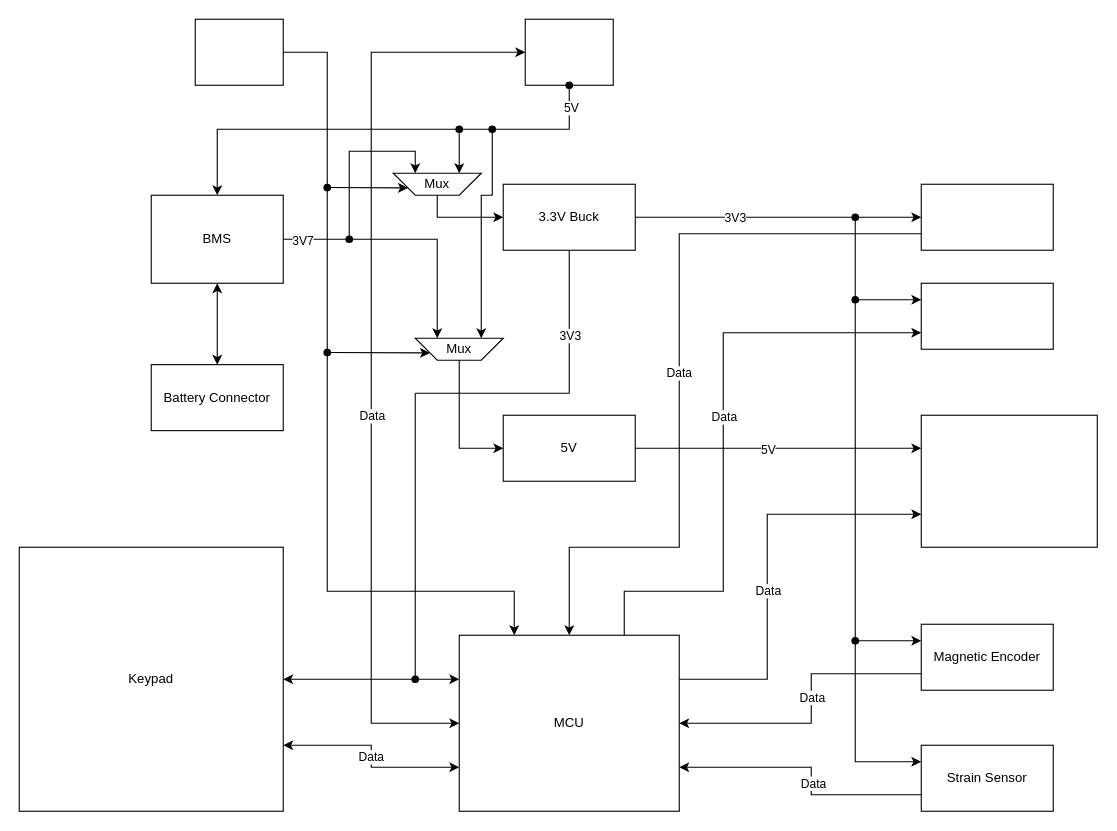
Image size: 1117x831. Some labels were removed from this diagram. The shapes that lost their labels are listed below. From the top down, each one's centre as x and y in pixels, then its label:
[238,51]: 3-pos switch
[568,51]: USB-C
[986,216]: Ambient Light Sensor
[986,315]: LCD Connector
[1008,480]: Motor Driver
